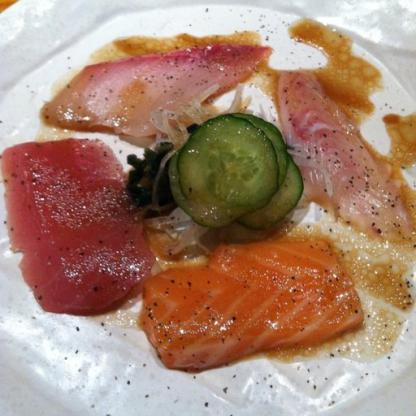salmon: (142, 243, 363, 368)
tuna: (4, 139, 149, 317)
